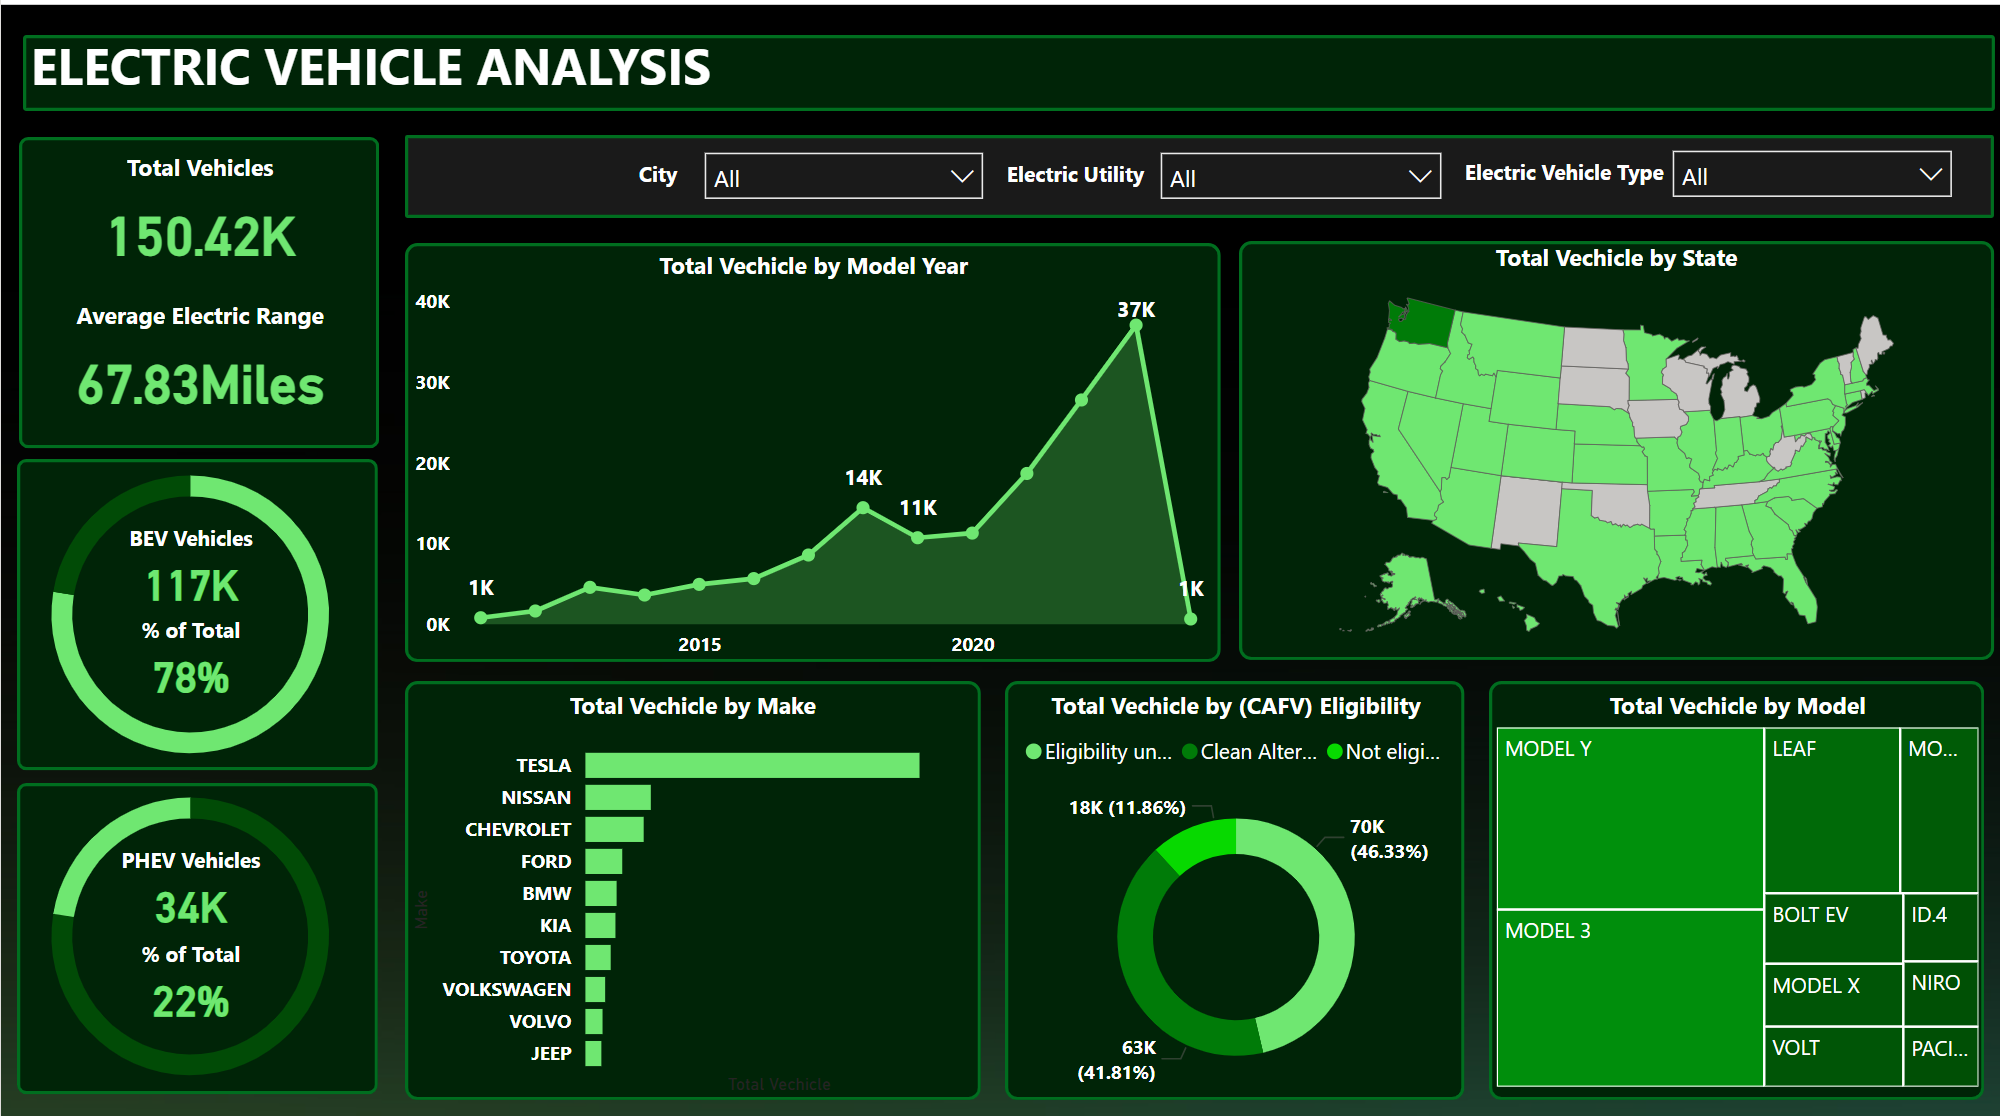

The dashboard page shown, as its layout file describes it:
{"tool":"powerbi","page":{"name":"Page 1","canvas":[1280,720],"ordinal":0},"visuals":[{"type":"shape","box":[14,29.3,1257.1,48.4],"z":0},{"type":"shape","box":[10.9,93.8,229.6,198.4],"z":1000},{"type":"card","title":"Total Vehicles","fields":{"Values":["Electric_Vehicle_Population_Data.Total Vechicle"]},"box":[21.7,103.3,210.6,84.2],"z":2000},{"type":"card","title":"Average Electric Range","fields":{"Values":["Electric_Vehicle_Population_Data.Average Range"]},"box":[21.7,197,210.6,84.2],"z":3000},{"type":"shape","box":[10.8,300,230,198.3],"z":4000},{"type":"shape","box":[10.8,505.8,230,198.3],"z":5000},{"type":"donutChart","fields":{"Category":["Electric_Vehicle_Population_Data.Electric Vehicle Type"],"Y":["Electric_Vehicle_Population_Data.Total Vechicle"]},"box":[0,282.5,241.2,231.2],"z":6000},{"type":"card","title":"BEV Vehicles","fields":{"Values":["Electric_Vehicle_Population_Data.Bev Vehicle"]},"box":[53.8,340,135,58.8],"z":7000},{"type":"card","title":"% of Total","fields":{"Values":["Electric_Vehicle_Population_Data.Percentage of BEV"]},"box":[53.8,398.8,135,58.8],"z":8000},{"type":"donutChart","fields":{"Category":["Electric_Vehicle_Population_Data.Electric Vehicle Type"],"Y":["Electric_Vehicle_Population_Data.Total Vechicle"]},"box":[0,488.8,241.2,231.2],"z":9000},{"type":"card","title":"PHEV Vehicles","fields":{"Values":["Electric_Vehicle_Population_Data.PHEV Vehicle"]},"box":[53.8,546.2,135,58.8],"z":10000},{"type":"card","title":"% of Total","fields":{"Values":["Electric_Vehicle_Population_Data.Percentage of PHEV"]},"box":[53.8,605,135,58.8],"z":11000},{"type":"shape","box":[257.1,92.9,1012.9,52.9],"z":12000},{"type":"shape","box":[257.1,161.4,520,267.1],"z":13000},{"type":"areaChart","fields":{"Category":["Electric_Vehicle_Population_Data.Model Year"],"Y":["Electric_Vehicle_Population_Data.Total Vechicle"]},"box":[258.6,165.7,518.6,270],"z":14000},{"type":"shape","box":[788.6,160,481.4,267.1],"z":15000},{"type":"shapeMap","fields":{"Category":["Electric_Vehicle_Population_Data.State"],"Value":["Electric_Vehicle_Population_Data.Total Vechicle"]},"box":[788.6,160,481.4,265.7],"z":16000},{"type":"shape","box":[257.1,441.4,367.1,267.1],"z":17000},{"type":"barChart","fields":{"Category":["Electric_Vehicle_Population_Data.Make"],"Y":["Electric_Vehicle_Population_Data.Total Vechicle"]},"box":[257.1,445.7,367.1,262.9],"z":18000},{"type":"shape","box":[640,441.4,292.9,267.1],"z":19000},{"type":"donutChart","title":"Total Vechicle by (CAFV) Eligibility","fields":{"Category":["Electric_Vehicle_Population_Data.Clean Alternative Fuel Vehicle (CAFV) Eligibility"],"Y":["Electric_Vehicle_Population_Data.Total Vechicle"]},"box":[638.6,445.7,297.1,267.1],"z":20000},{"type":"shape","box":[948.6,441.4,315.7,267.1],"z":21000},{"type":"treemap","fields":{"Group":["Electric_Vehicle_Population_Data.Model"],"Values":["Electric_Vehicle_Population_Data.Total Vechicle"]},"box":[948.6,445.7,317.1,258.6],"z":22000},{"type":"slicer","fields":{"Values":["Electric_Vehicle_Population_Data.Electric Vehicle Type"]},"box":[1056.2,92.5,198,45],"z":23000},{"type":"slicer","fields":{"Values":["Electric_Vehicle_Population_Data.Electric Utility"]},"box":[728.8,93.8,198.8,45],"z":24000},{"type":"slicer","fields":{"Values":["Electric_Vehicle_Population_Data.City"]},"box":[438.8,93.8,197.5,45],"z":25000},{"type":"textbox","box":[401.2,103.8,188.8,45],"z":26000},{"type":"textbox","box":[636.2,103.8,138.8,38.8],"z":27000},{"type":"textbox","box":[927.5,102.5,257.5,43.8],"z":28000},{"type":"textbox","box":[14,21.7,474.3,63.7],"z":29000}]}

Visuals, with their boxes in screenshot pixels (x1, y1, x2, y2), scaled from the page's 1280x720 canvas onto the 2000x1116 screenshot:
shape: [left=22, top=45, right=1986, bottom=120]
shape: [left=17, top=145, right=376, bottom=453]
"Total Vehicles" card: [left=34, top=160, right=363, bottom=291]
"Average Electric Range" card: [left=34, top=305, right=363, bottom=436]
shape: [left=17, top=465, right=376, bottom=772]
shape: [left=17, top=784, right=376, bottom=1091]
donutChart - Electric_Vehicle_Population_Data.Electric Vehicle Type x Electric_Vehicle_Population_Data.Total Vechicle: [left=0, top=438, right=377, bottom=796]
"BEV Vehicles" card: [left=84, top=527, right=295, bottom=618]
"% of Total" card: [left=84, top=618, right=295, bottom=709]
donutChart - Electric_Vehicle_Population_Data.Electric Vehicle Type x Electric_Vehicle_Population_Data.Total Vechicle: [left=0, top=758, right=377, bottom=1115]
"PHEV Vehicles" card: [left=84, top=847, right=295, bottom=938]
"% of Total" card: [left=84, top=938, right=295, bottom=1029]
shape: [left=402, top=144, right=1984, bottom=226]
shape: [left=402, top=250, right=1214, bottom=664]
areaChart - Electric_Vehicle_Population_Data.Model Year x Electric_Vehicle_Population_Data.Total Vechicle: [left=404, top=257, right=1214, bottom=675]
shape: [left=1232, top=248, right=1984, bottom=662]
shapeMap - Electric_Vehicle_Population_Data.State x Electric_Vehicle_Population_Data.Total Vechicle: [left=1232, top=248, right=1984, bottom=660]
shape: [left=402, top=684, right=975, bottom=1098]
barChart - Electric_Vehicle_Population_Data.Make x Electric_Vehicle_Population_Data.Total Vechicle: [left=402, top=691, right=975, bottom=1098]
shape: [left=1000, top=684, right=1458, bottom=1098]
"Total Vechicle by (CAFV) Eligibility" donutChart: [left=998, top=691, right=1462, bottom=1105]
shape: [left=1482, top=684, right=1975, bottom=1098]
treemap - Electric_Vehicle_Population_Data.Model x Electric_Vehicle_Population_Data.Total Vechicle: [left=1482, top=691, right=1978, bottom=1092]
slicer - Electric_Vehicle_Population_Data.Electric Vehicle Type: [left=1650, top=143, right=1960, bottom=213]
slicer - Electric_Vehicle_Population_Data.Electric Utility: [left=1139, top=145, right=1449, bottom=215]
slicer - Electric_Vehicle_Population_Data.City: [left=686, top=145, right=994, bottom=215]
textbox: [left=627, top=161, right=922, bottom=231]
textbox: [left=994, top=161, right=1211, bottom=221]
textbox: [left=1449, top=159, right=1852, bottom=227]
textbox: [left=22, top=34, right=763, bottom=132]
